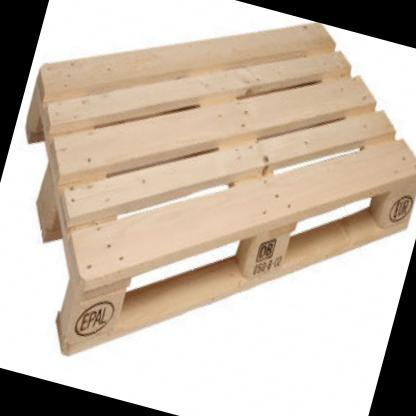BoxFace: (23, 22, 416, 361)
